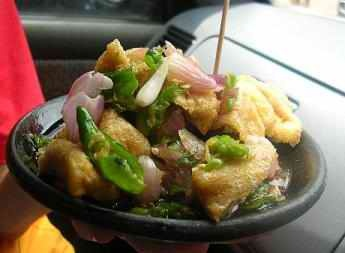tahu_gejrot: (38, 37, 301, 224)
